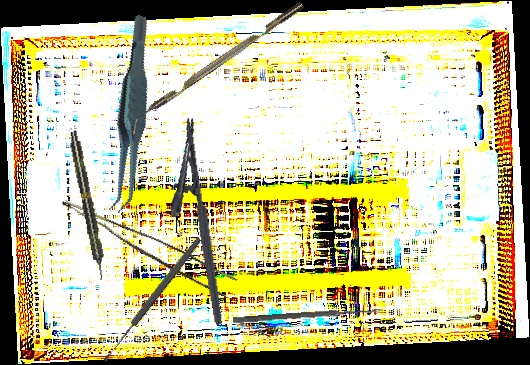Chopper: (123, 1, 311, 136)
Handpiece: (66, 130, 109, 281)
Needle Holder: (157, 116, 224, 330)
Surgical Spoon: (101, 236, 203, 363), (232, 306, 384, 325)
Tissue Forceps: (72, 14, 190, 216), (52, 199, 241, 299)
